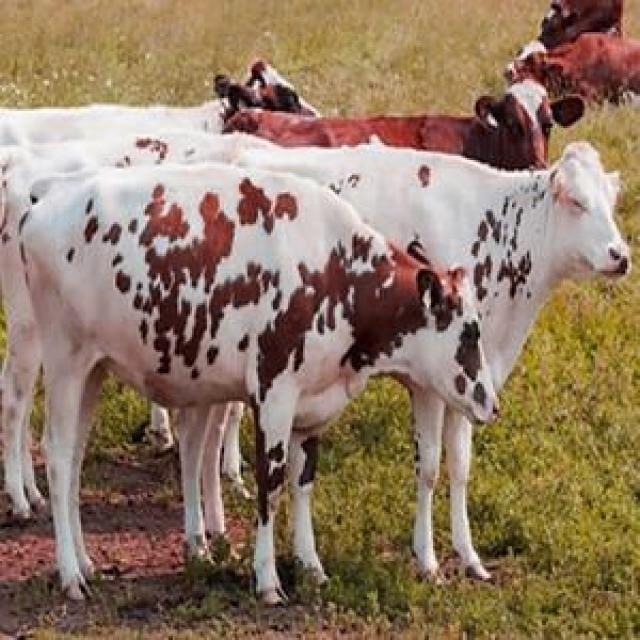cow: (20, 164, 495, 599), (240, 144, 629, 391), (412, 386, 480, 577)
